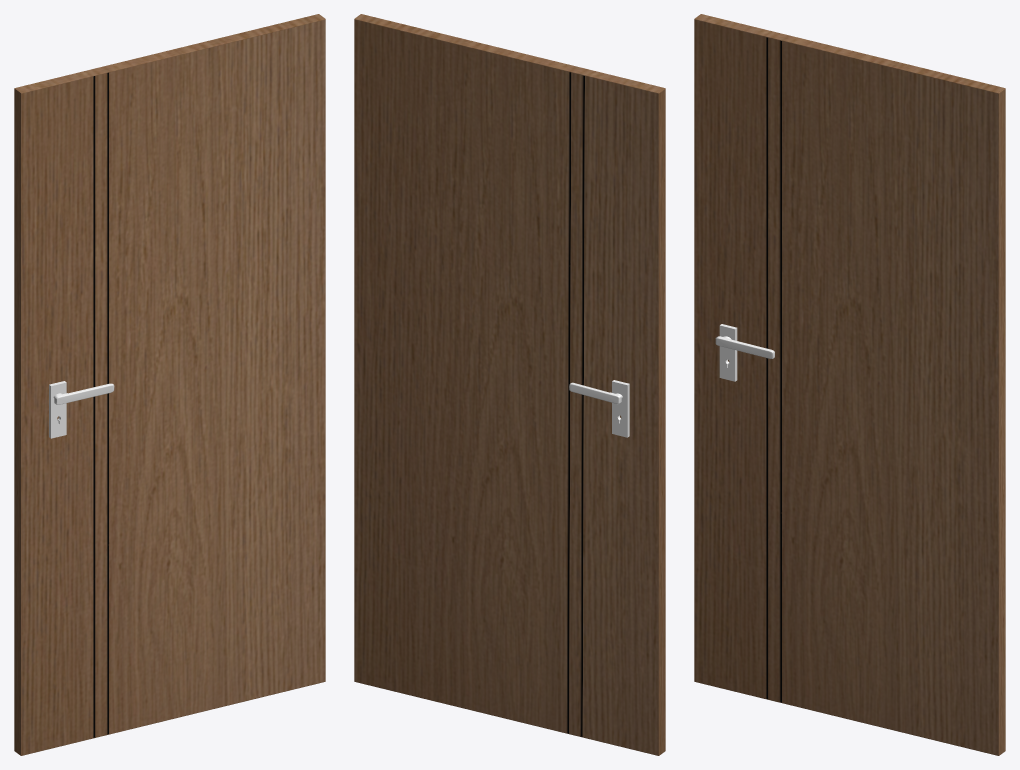
The picture shows the model from 3 angles, left to right: view 1: azimuth 30°, elevation 25°; view 2: azimuth 150°, elevation 25°; view 3: azimuth 330°, elevation 25°; orthographic projection.
Visible parts, largest first — view 1: pCube41, locker_back.001, handle_2.001; view 2: pCube41, locker_back.002, handle_2.002; view 3: pCube41, locker_back.001, handle_2.001.
Part boxes in pixels (<box>): pCube41: <box>14,14,325,755</box>; locker_back.001: <box>49,381,66,438</box>; handle_2.001: <box>53,383,114,404</box>; pCube41: <box>354,14,665,755</box>; locker_back.002: <box>612,380,629,437</box>; handle_2.002: <box>569,382,622,403</box>; pCube41: <box>694,14,1005,755</box>; locker_back.001: <box>719,324,737,381</box>; handle_2.001: <box>715,336,774,358</box>.
Size of the model in its own units: 1.77 by 3.68 by 0.2165.
2 materials, 1 textured.
